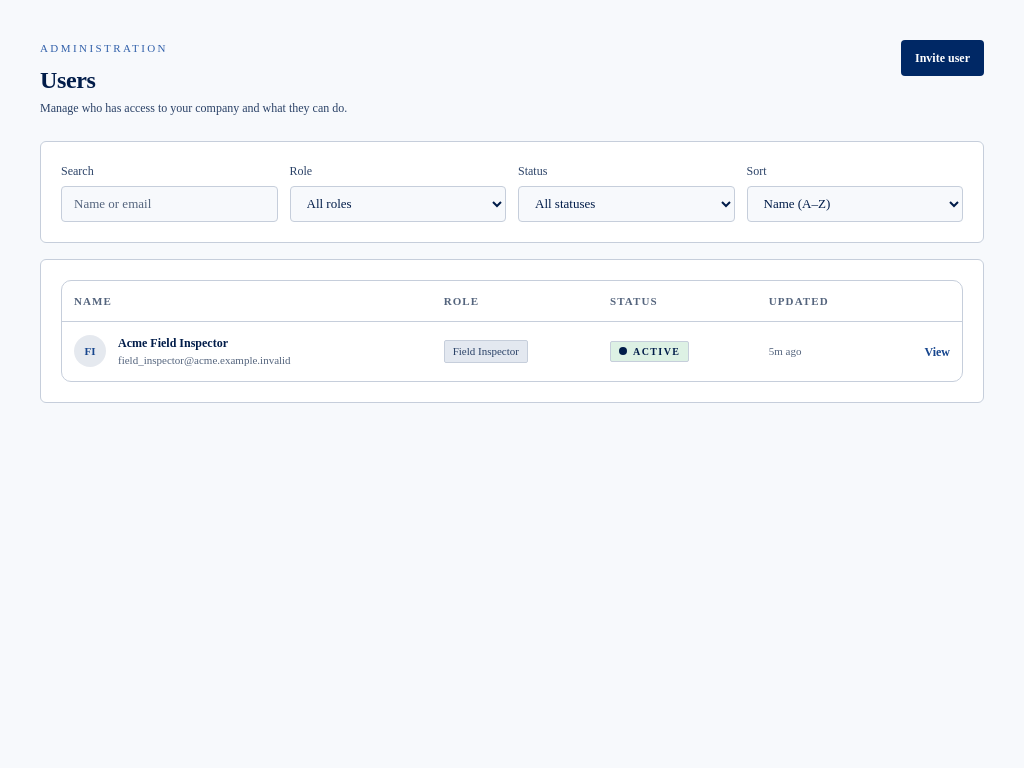
users page › invites a user, sends the invite email, and refreshes the list
This screenshot has width=1024, height=768.
Expected: the text "Acme Field Inspector" is shown, [118,336,228,350]
Click the button "Invite user". click: [942, 58]
box: [901,40,984,76]
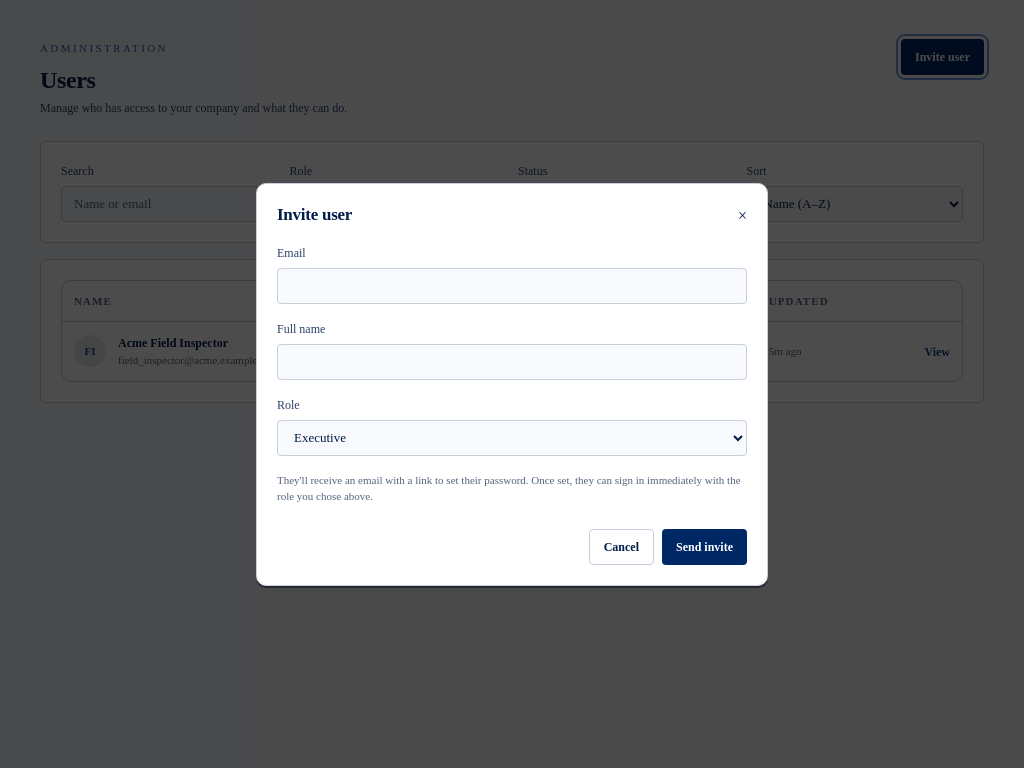
Type "new@acme.example.invalid" into the field labelled "Email". click: [512, 286]
box: [277,268,747,304]
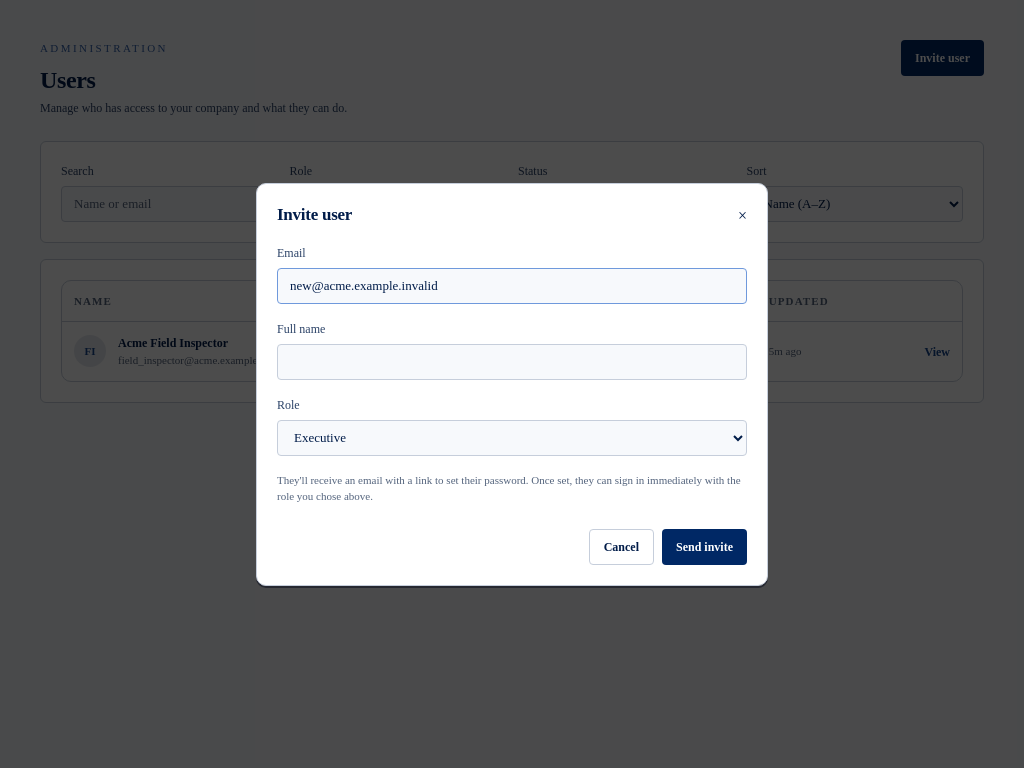
Type "New Hire" into the field labelled "Full name". click: [512, 362]
box: [277,344,747,380]
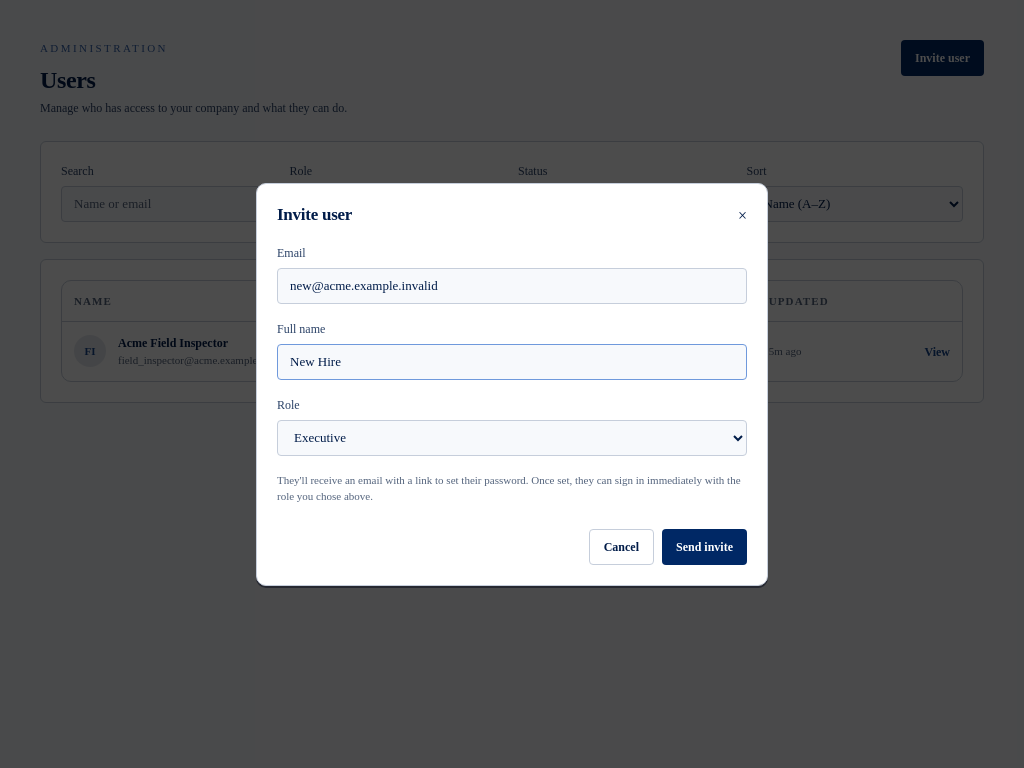
Select "Executive" in the dropdown labelled "Role". click: [512, 438]
box: [277,420,747,456]
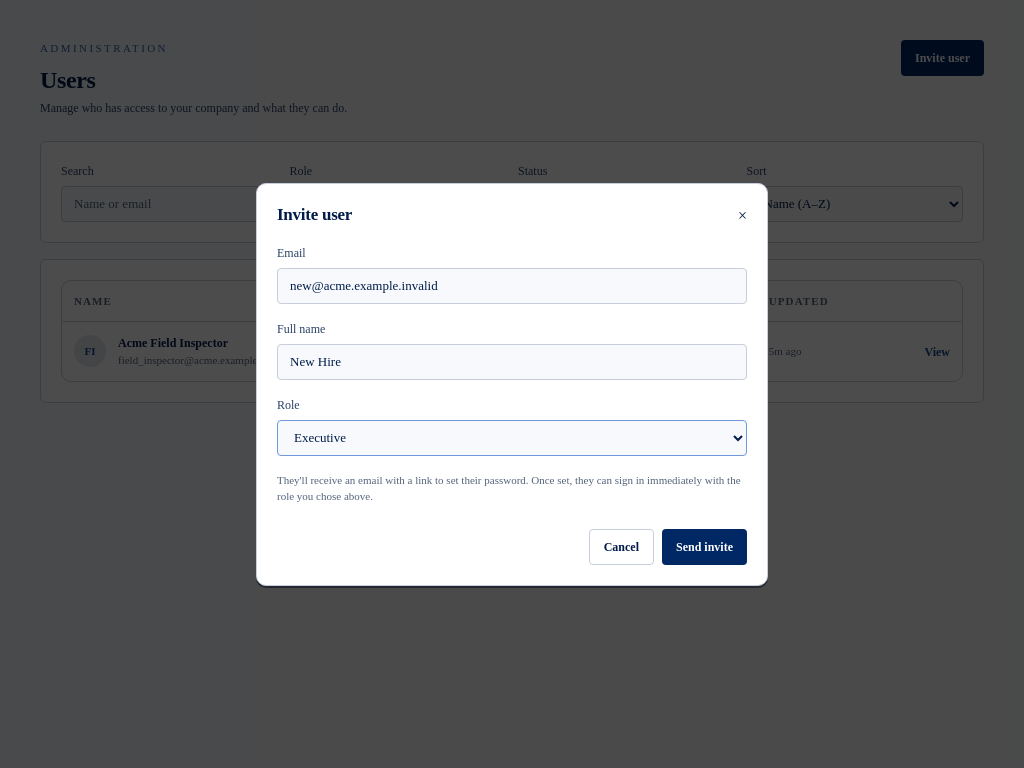
Click the button "Send invite". click: [704, 546]
box: [662,528,747,564]
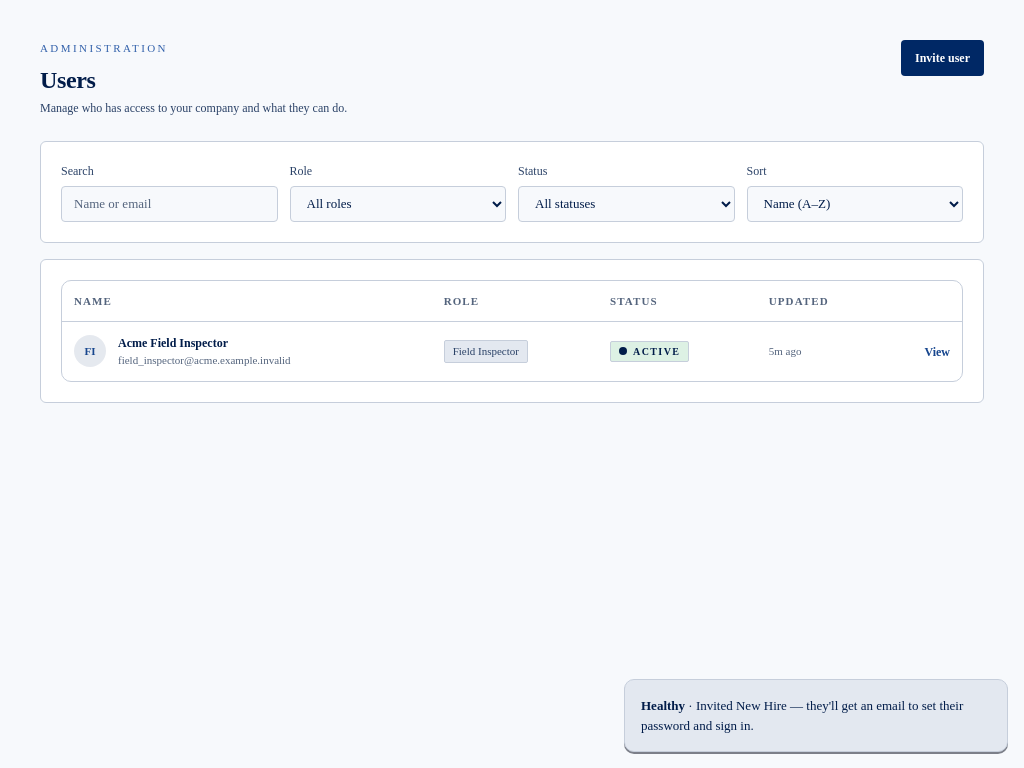
Expected: the button "Send invite" is gone
